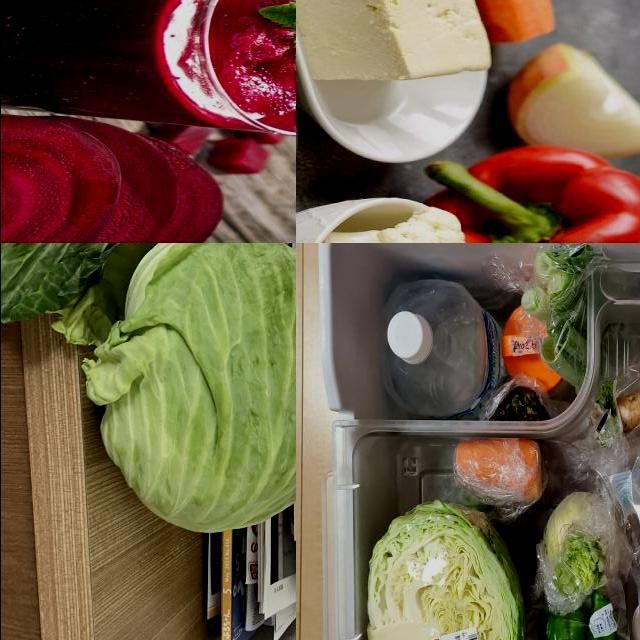beet: (1, 115, 226, 244)
bell_pepper: (470, 158, 640, 244)
cabbage: (1, 244, 296, 536), (363, 500, 526, 640)
carrot: (454, 440, 548, 504)
onion: (523, 50, 640, 157)
